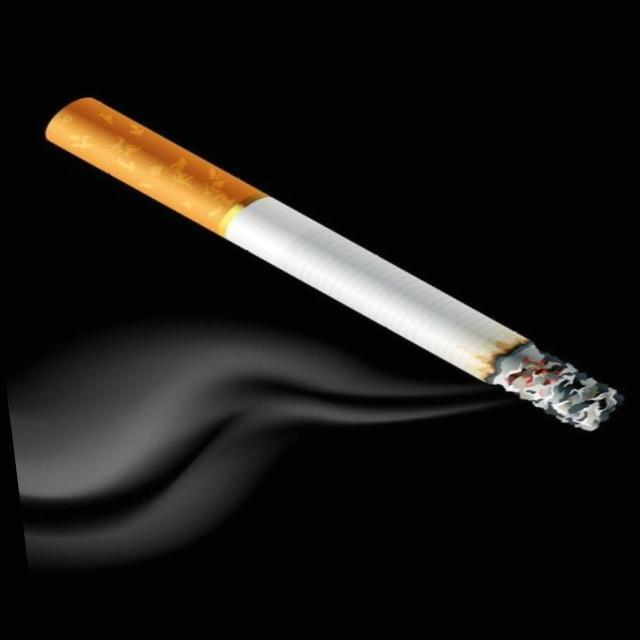cigarette: (36, 20, 632, 502)
